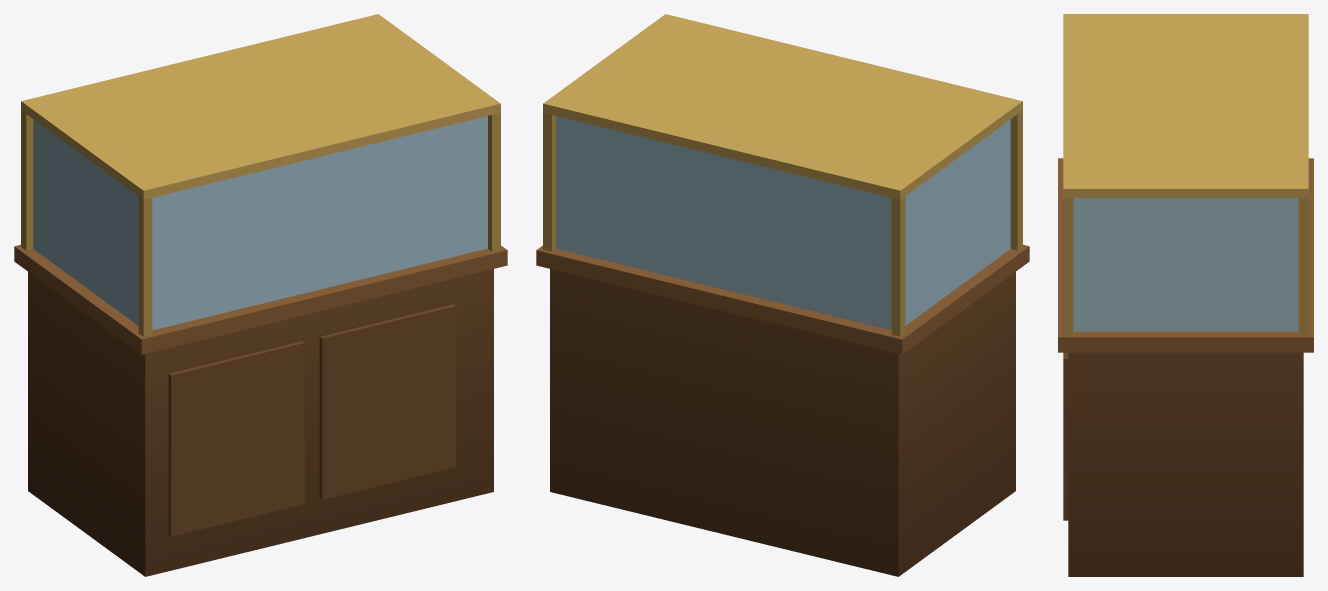
File: SM_DisplayCase_2part.fbx
The picture shows the model from 3 angles, left to right: view 1: azimuth 30°, elevation 25°; view 2: azimuth 150°, elevation 25°; view 3: azimuth 270°, elevation 25°; orthographic projection.
Visible parts, largest first — view 1: SM_DisplayCase.001, SM_DisplayCase.002; view 2: SM_DisplayCase.001, SM_DisplayCase.002; view 3: SM_DisplayCase.002, SM_DisplayCase.001.
Boxes of the visible parts, box(x1,y1,x2,y2) form: SM_DisplayCase.001: box(14, 244, 507, 576); SM_DisplayCase.002: box(21, 14, 500, 336); SM_DisplayCase.001: box(536, 244, 1029, 576); SM_DisplayCase.002: box(543, 14, 1022, 336); SM_DisplayCase.002: box(1063, 14, 1308, 335); SM_DisplayCase.001: box(1058, 158, 1313, 576).
Bounding box in the file's own units: 1.26 × 1.28 × 0.76.
